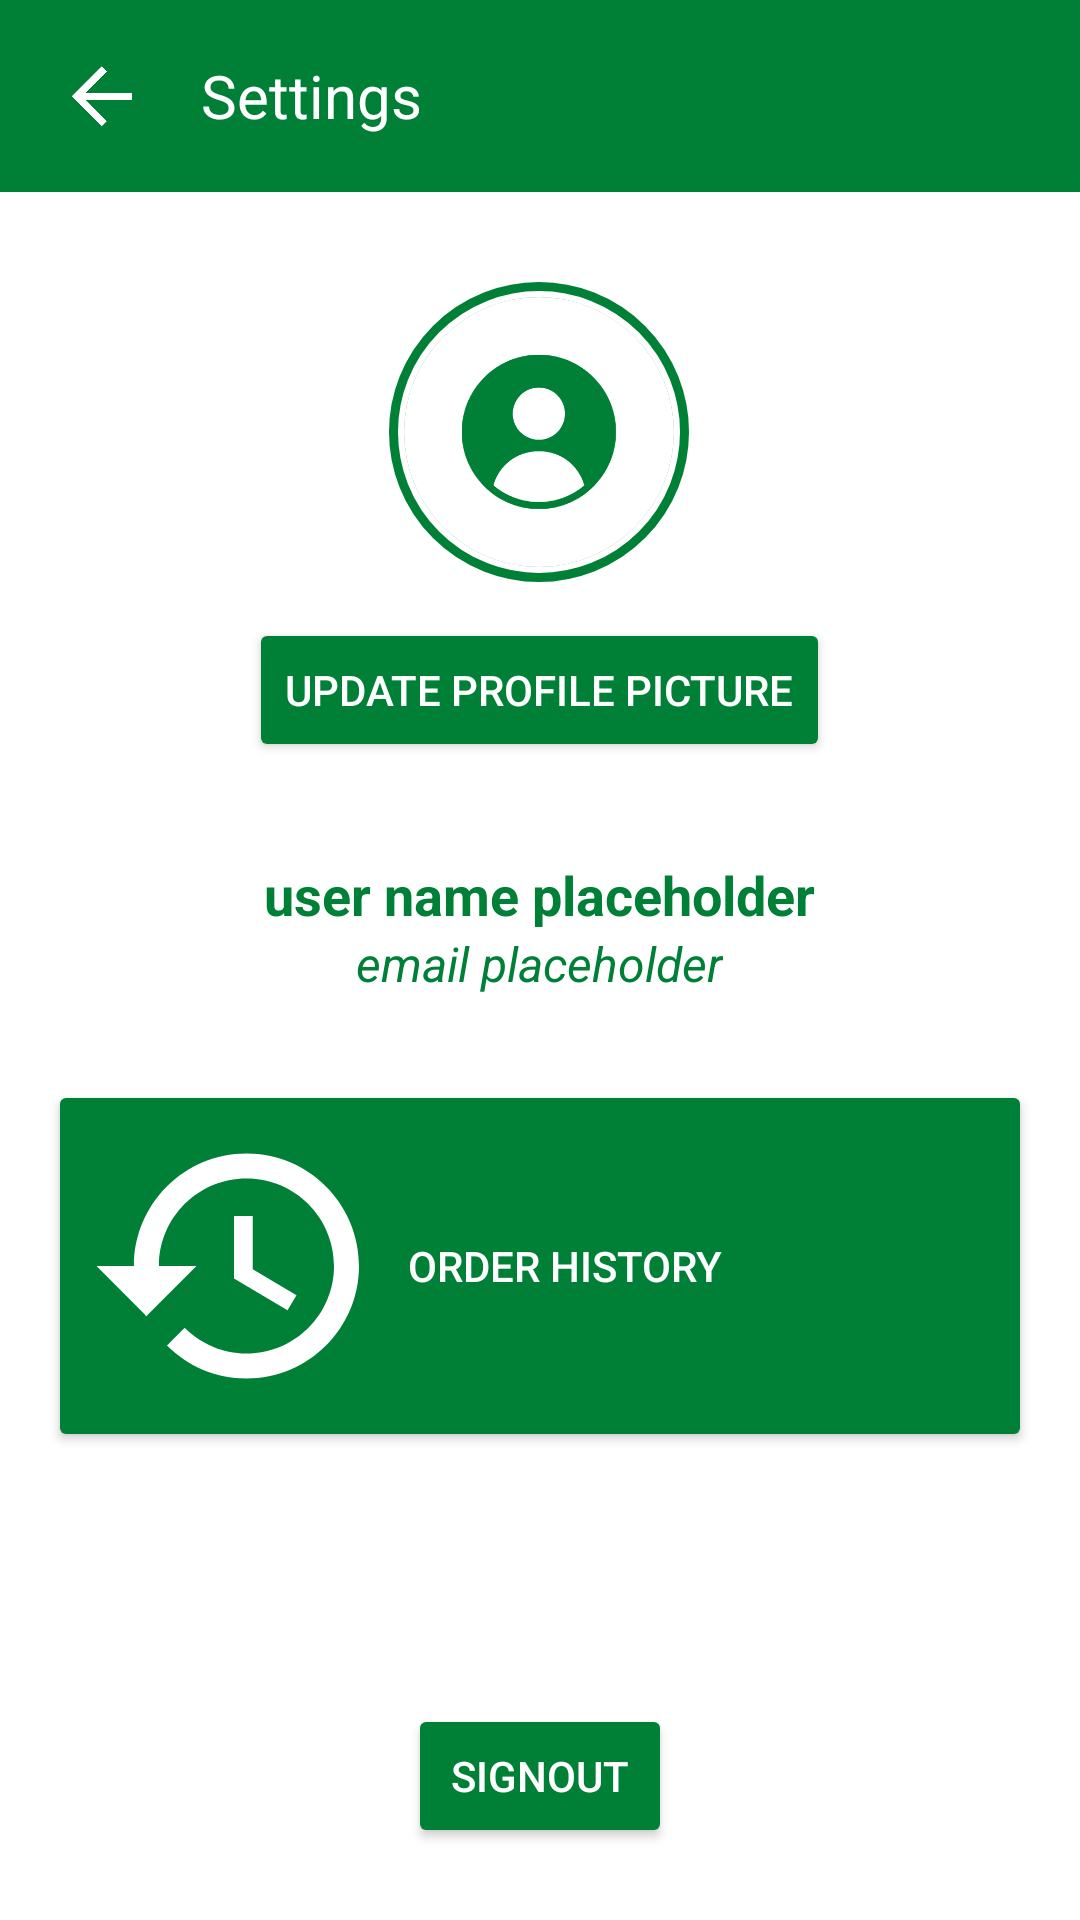

Where to tap for icons on this 1080 × 1920 app screen, as (x=x, y=y):
back button: (x=102, y=96)
